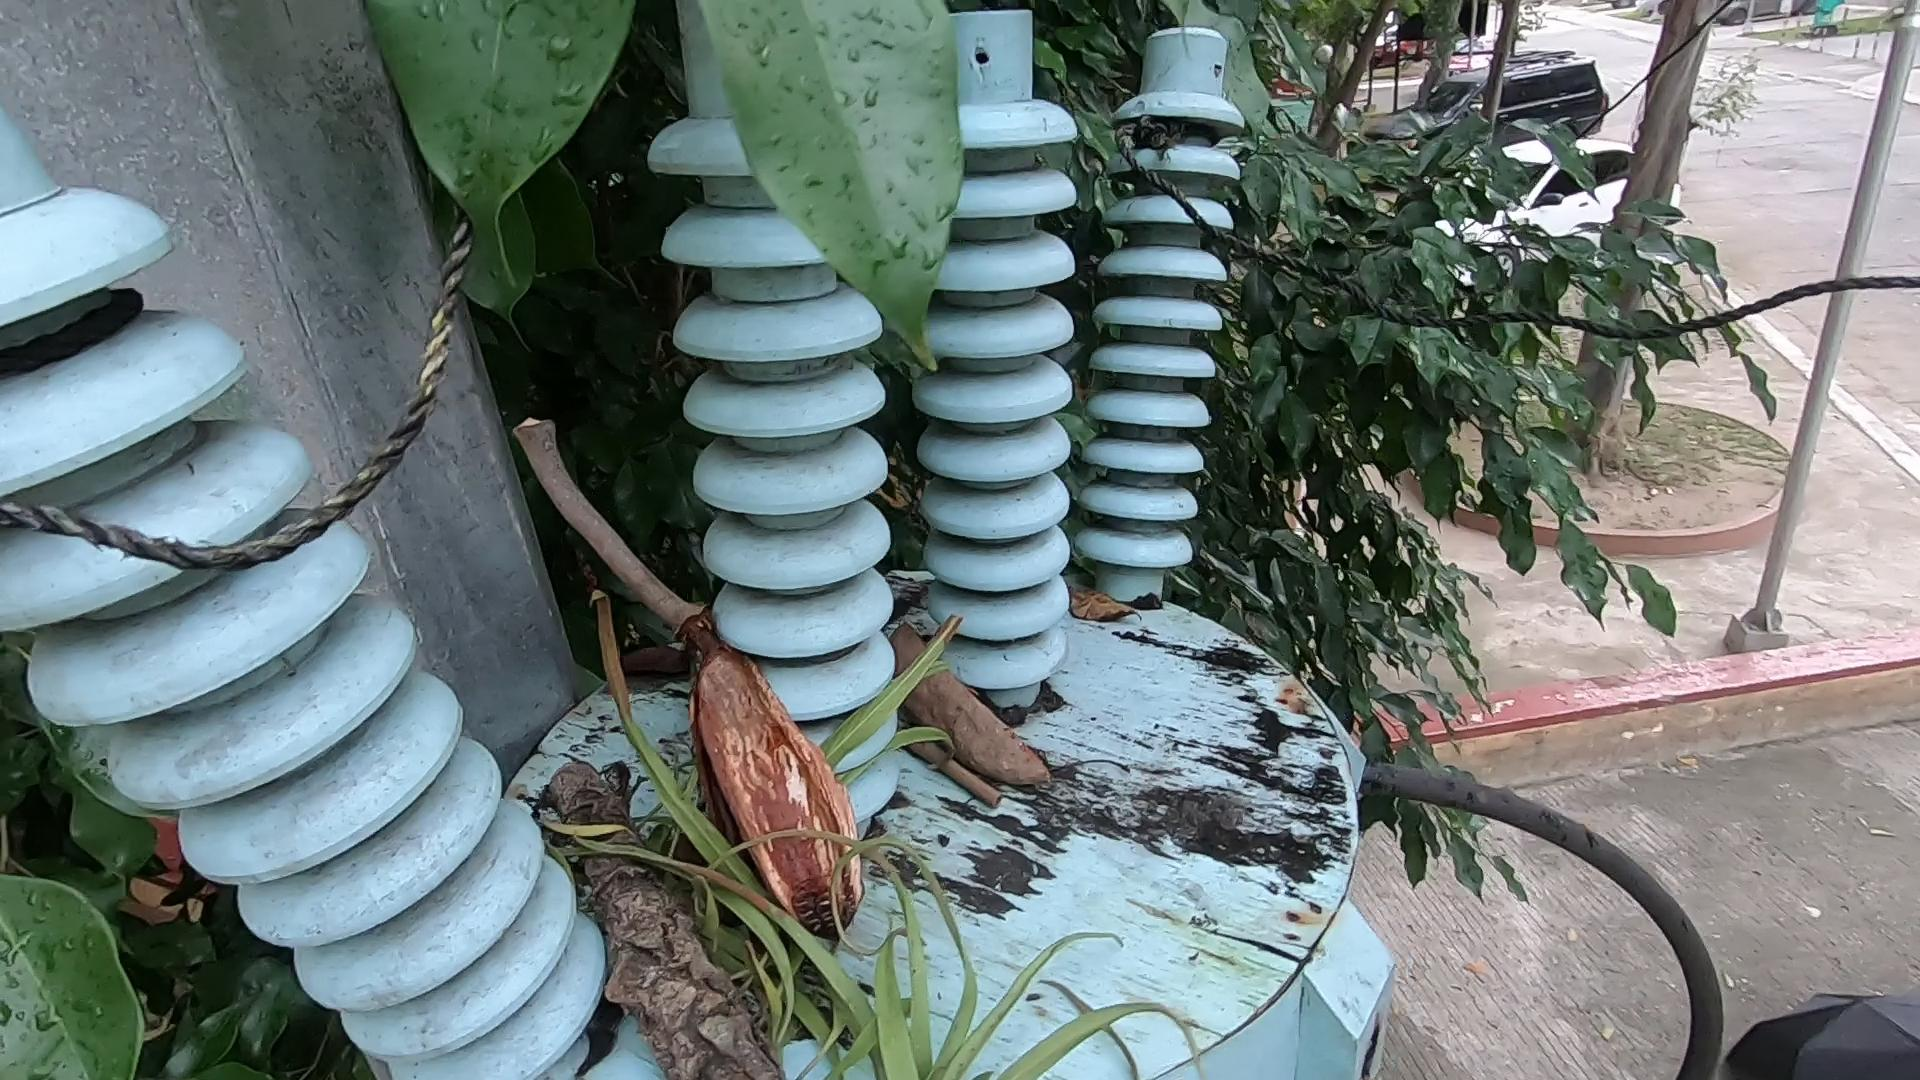branch with leaves: (512, 709, 1124, 1080)
leaf: (1064, 559, 1145, 636)
mahogany fruit: (683, 646, 843, 984), (903, 618, 1040, 782)
tree branch: (520, 394, 724, 646), (880, 692, 1044, 823)
